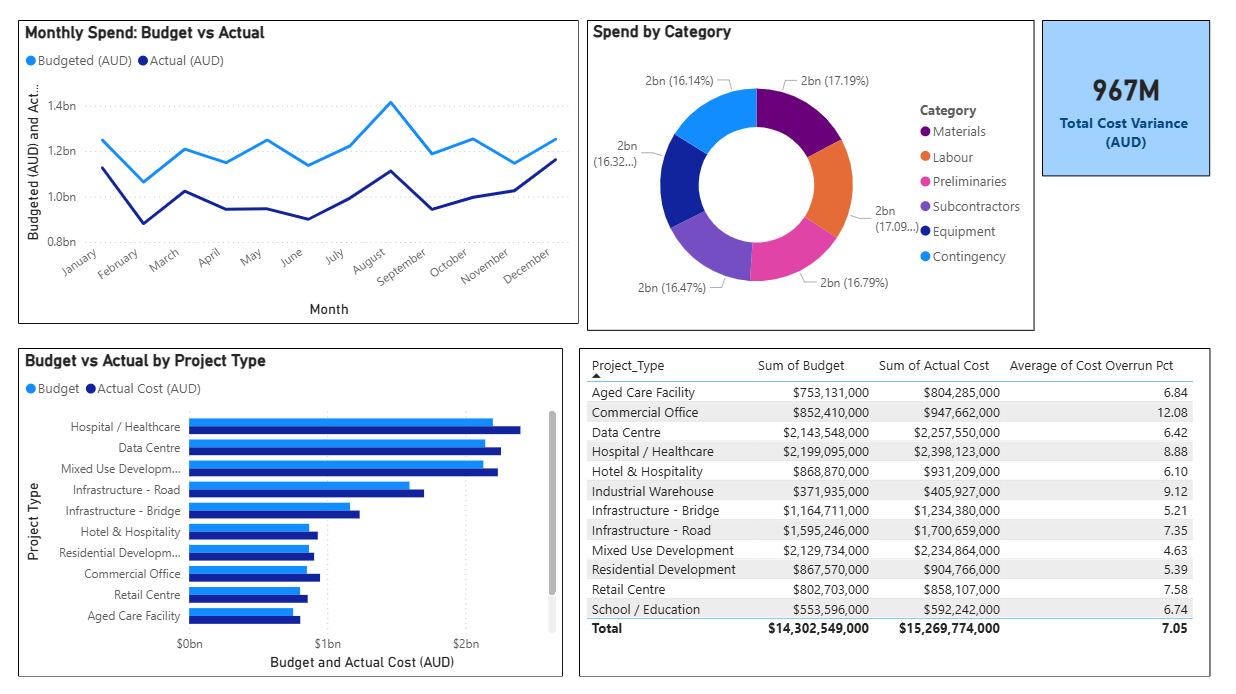

This screenshot's page, from the dashboard's own definition file:
{"tool":"powerbi","page":{"name":"Cost & Budget","canvas":[1280,720],"ordinal":1},"visuals":[{"type":"lineChart","title":"Monthly Spend: Budget vs Actual","fields":{"Category":["SiteBook_CostTracking.Month.Variation.Date Hierarchy.Month"],"Y":["Sum(SiteBook_CostTracking.Budgeted_AUD)","Sum(SiteBook_CostTracking.Actual_AUD)"]},"box":[22.4,26.4,570.4,309.1],"z":0},{"type":"donutChart","title":"Spend by Category","fields":{"Category":["SiteBook_CostTracking.Category"],"Y":["Sum(SiteBook_CostTracking.Actual_AUD)"]},"box":[600.9,26.4,455.5,316.2],"z":1000},{"type":"clusteredBarChart","title":"Budget vs Actual by Project Type","fields":{"Category":["SiteBook_Projects.Project_Type"],"Y":["Sum(SiteBook_Projects.Budget_AUD)","Sum(SiteBook_Projects.Actual_Cost_AUD)"]},"box":[22.4,359.9,554.1,334.5],"z":2000},{"type":"tableEx","fields":{"Values":["SiteBook_Projects.Project_Type","Sum(SiteBook_Projects.Budget_AUD)","Sum(SiteBook_Projects.Actual_Cost_AUD)","Avg(SiteBook_Projects.Cost_Overrun_Pct)"]},"box":[592.7,359.9,641.5,334.5],"z":3000},{"type":"card","fields":{"Values":["SiteBook_Projects.Total Cost Variance"]},"box":[1063.4,26.4,170.8,158.6],"z":3001}]}

Visuals, with their boxes in screenshot pixels (x1, y1, x2, y2), scaled from the page's 1280x720 canvas onto the 1236x694 screenshot:
"Monthly Spend: Budget vs Actual" lineChart: pyautogui.locateOnScreen(22, 25, 572, 323)
"Spend by Category" donutChart: pyautogui.locateOnScreen(580, 25, 1020, 330)
"Budget vs Actual by Project Type" clusteredBarChart: pyautogui.locateOnScreen(22, 347, 557, 669)
tableEx - SiteBook_Projects.Project_Type x Sum(SiteBook_Projects.Budget_AUD): pyautogui.locateOnScreen(572, 347, 1192, 669)
card - SiteBook_Projects.Total Cost Variance: pyautogui.locateOnScreen(1027, 25, 1192, 178)
